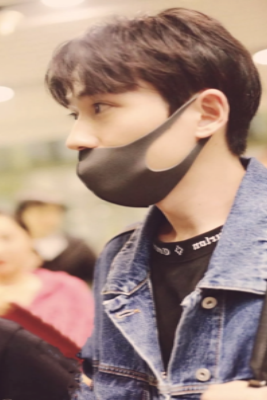mask_weared_incorrect: (65, 97, 198, 207)
